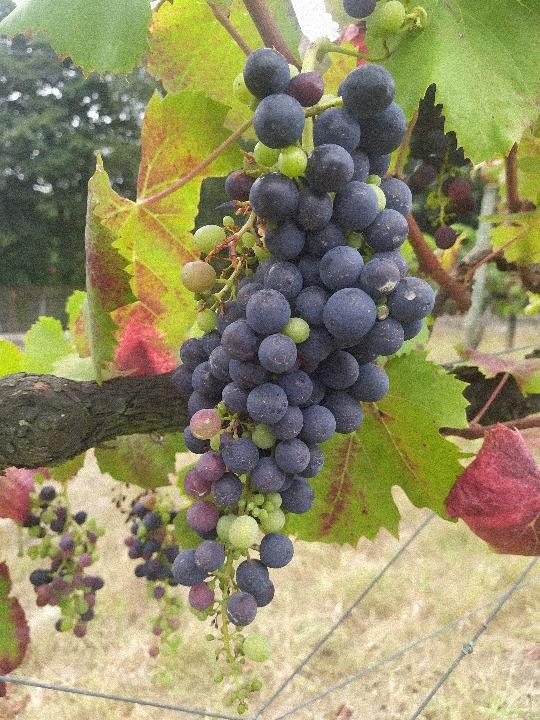grape: (180, 46, 436, 715), (110, 480, 191, 698), (18, 486, 106, 641)
